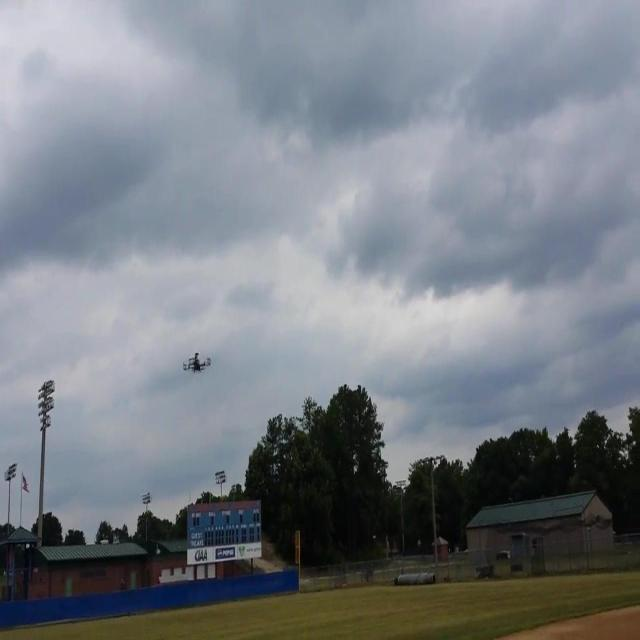drone: (182, 348, 213, 378)
